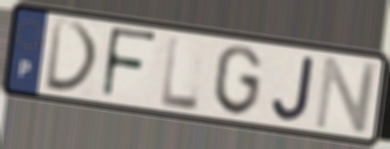D: (43, 16, 102, 95)
F: (99, 24, 159, 103)
G: (211, 43, 264, 119)
J: (270, 54, 317, 124)
L: (160, 33, 202, 113)
N: (312, 54, 381, 135)
